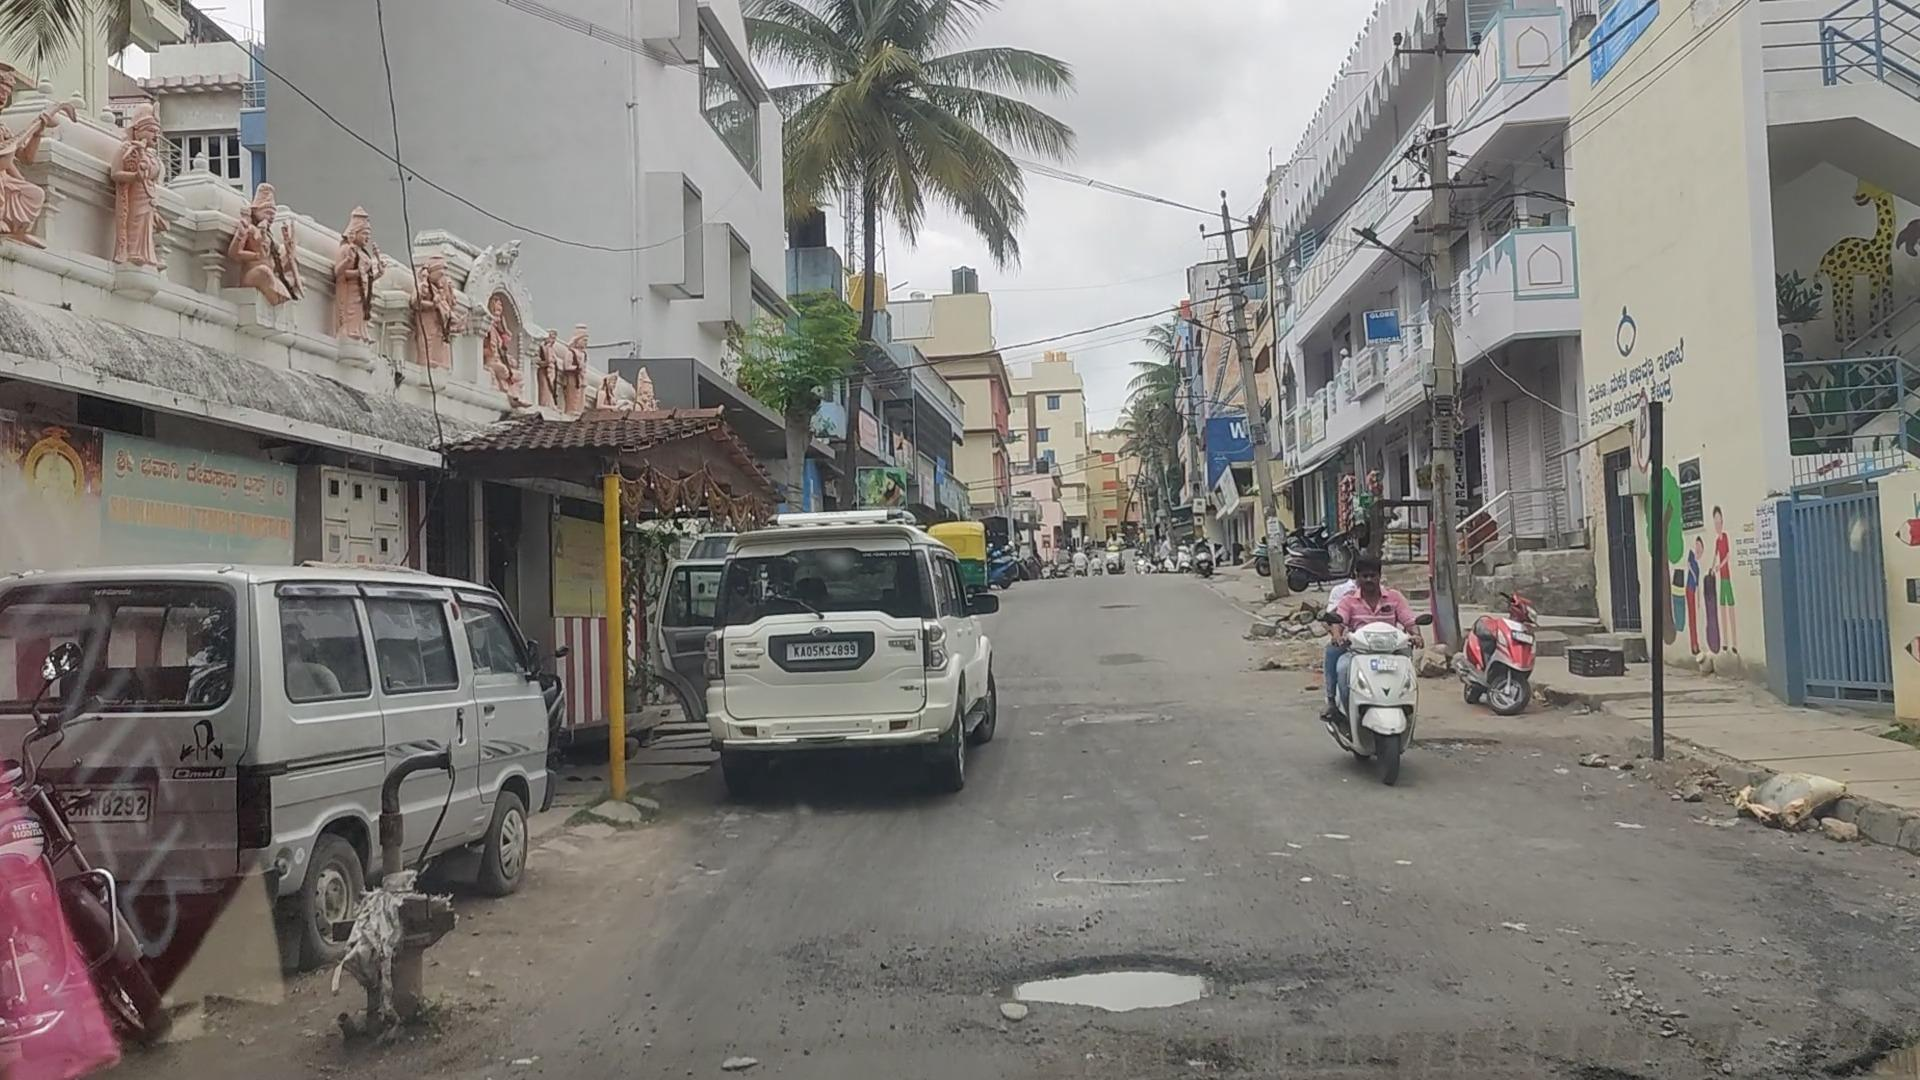LMV: (1335, 549, 1410, 781)
RoadDamages: (1510, 947, 1920, 1080), (998, 938, 1253, 1029), (1423, 724, 1513, 765)
